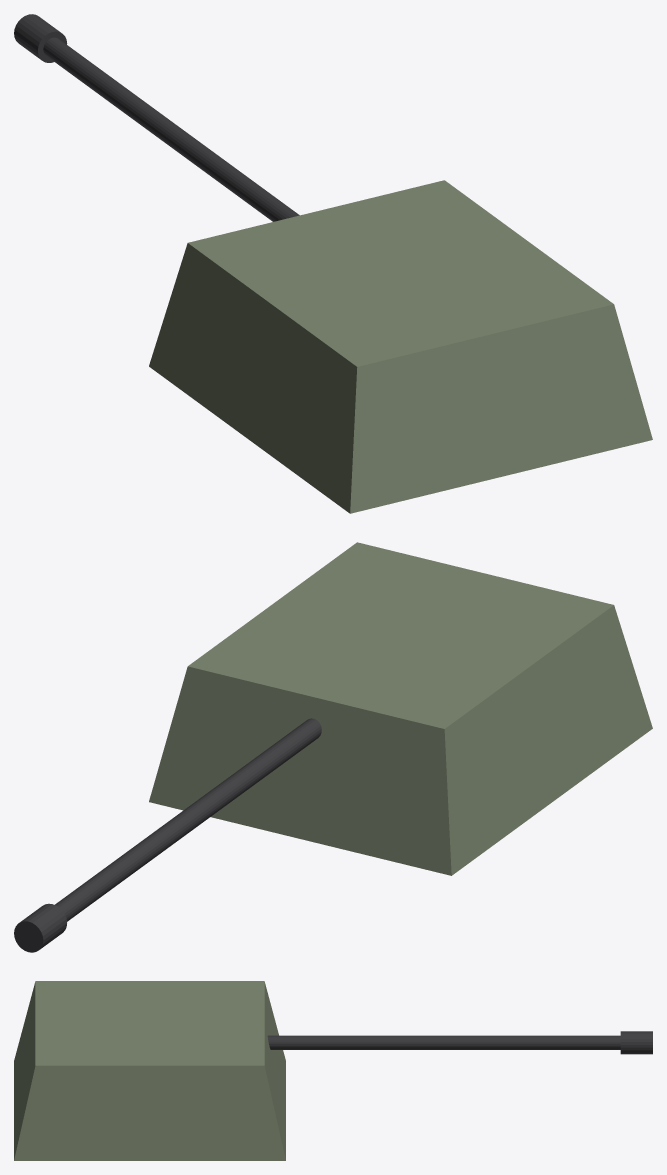
Rendered from type_m1a2_gunfx.glb.
The picture shows the model from 3 angles, top to bottom: view 1: azimuth 30°, elevation 25°; view 2: azimuth 150°, elevation 25°; view 3: azimuth 270°, elevation 25°; orthographic projection. The views are drawn at different scales.
Parts seen in each view (by area): view 1: fx_turret, fx_barrel, fx_barrel_tip; view 2: fx_turret, fx_barrel, fx_barrel_tip; view 3: fx_turret, fx_barrel, fx_barrel_tip.
Part boxes in pixels (box(x1,y1,x2,y2)): fx_turret: box(149, 180, 652, 513); fx_barrel: box(43, 37, 299, 221); fx_barrel_tip: box(14, 14, 67, 62); fx_turret: box(149, 542, 652, 875); fx_barrel: box(55, 718, 321, 921); fx_barrel_tip: box(14, 903, 66, 952); fx_turret: box(14, 981, 285, 1160); fx_barrel: box(267, 1035, 620, 1049); fx_barrel_tip: box(620, 1031, 652, 1054).
Size of the model in its own units: 3.3 by 1.35 by 8.93.
